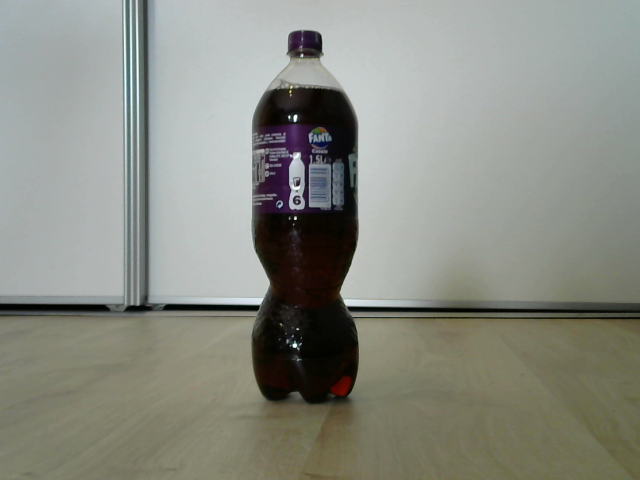bottle: (249, 29, 363, 405)
